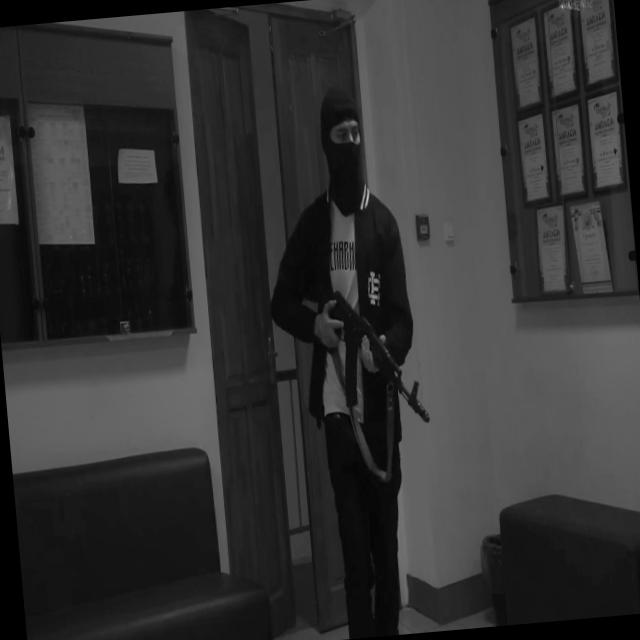gun: (298, 248, 430, 433)
person with a gun: (251, 81, 449, 640)
